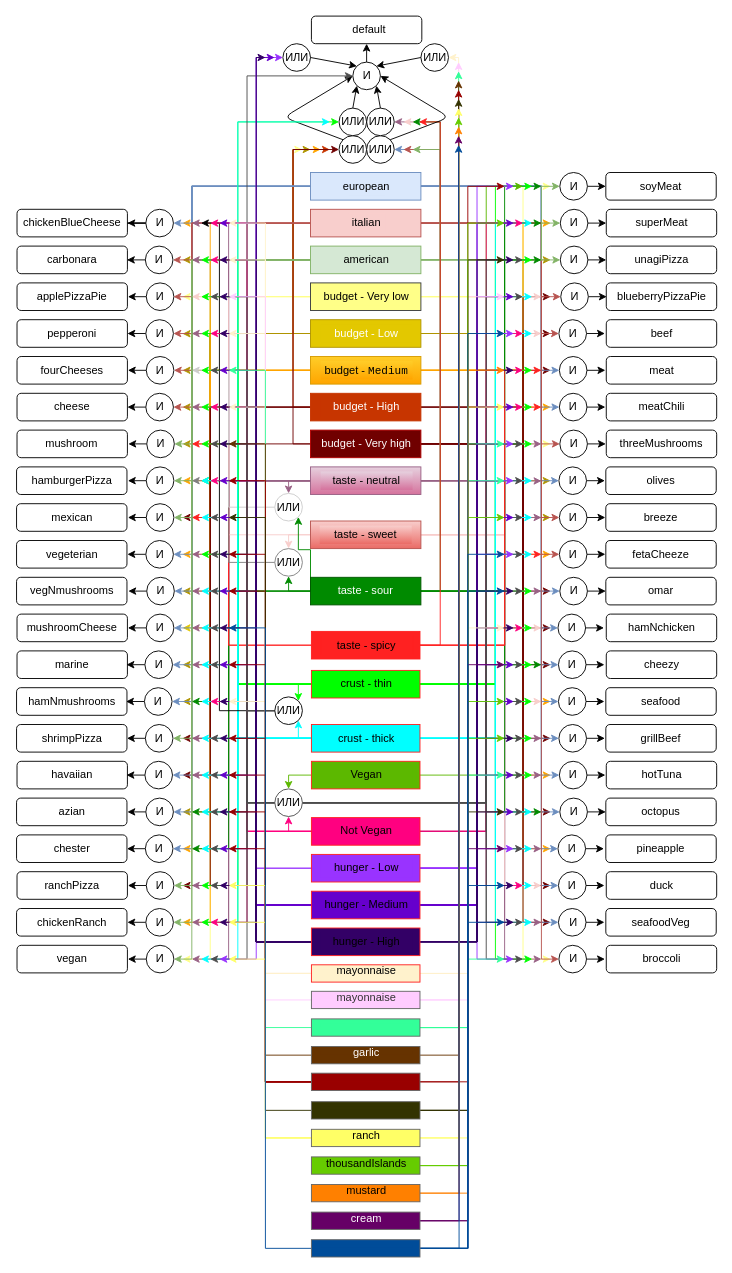
Image size: 732x1273. Some labels were removed from this diagram. Each missing label, with the centre of its shape:
noMatter: (365,1248)
pesto: (365,1110)
sweetNsour: (365,1027)
tomato: (365,1081)
